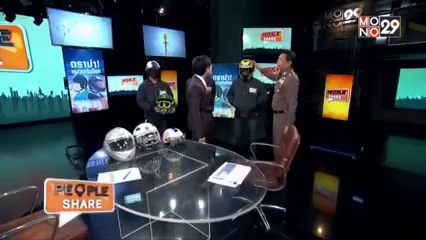helmet: (102, 125, 135, 159), (132, 119, 161, 148), (154, 90, 178, 114), (162, 122, 182, 146), (236, 57, 252, 77), (144, 57, 160, 77)
